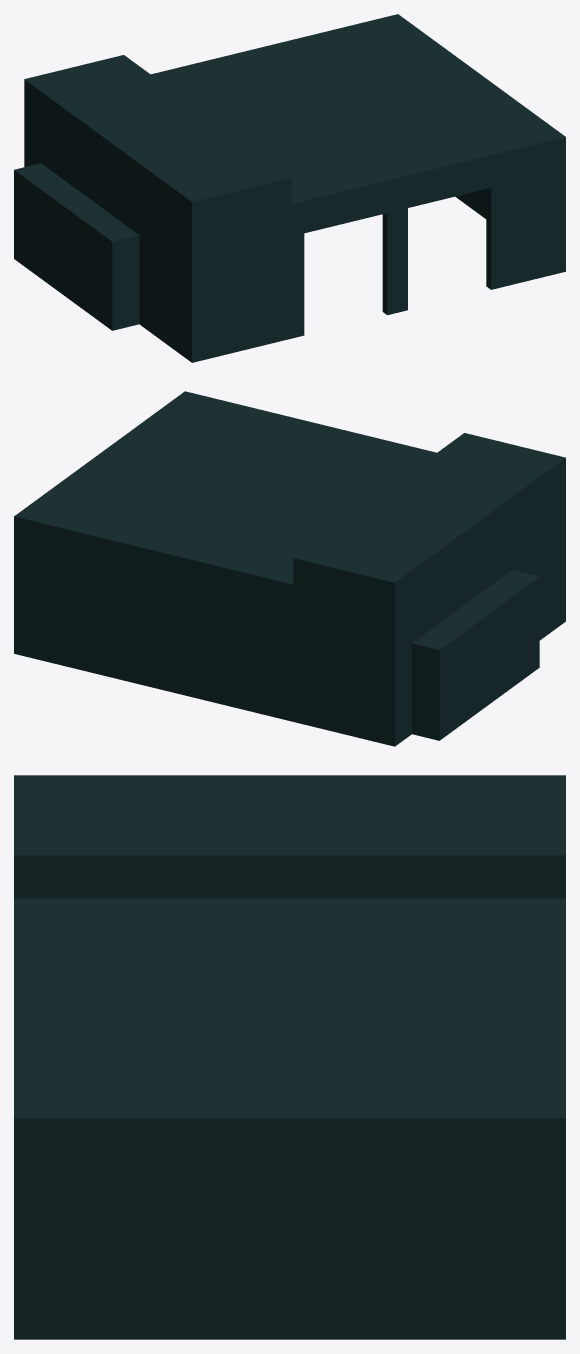
The model's file is oc_mendez_garage_01_collision.glb.
3 views of the same model, one above another, from view 1: azimuth 30°, elevation 25°; view 2: azimuth 150°, elevation 25°; view 3: azimuth 270°, elevation 25° (orthographic). The views are drawn at different scales.
Visible parts, largest first — view 1: COL_Office, COL_RoofLintel, COL_Stair, COL_PierR, COL_PierMid, COL_PierL, COL_SideR, COL_Rear; view 2: COL_Office, COL_RoofLintel, COL_Rear, COL_Stair, COL_SideR; view 3: COL_RoofLintel, COL_SideR, COL_Office, COL_Rear, COL_PierR.
Part boxes in pixels (x1=…): COL_Office: x1=24, y1=55, x2=291, y2=362; COL_RoofLintel: x1=153, y1=15, x2=565, y2=236; COL_Stair: x1=14, y1=163, x2=139, y2=330; COL_PierR: x1=486, y1=133, x2=565, y2=289; COL_PierMid: x1=382, y1=172, x2=407, y2=315; COL_PierL: x1=291, y1=197, x2=304, y2=338; COL_SideR: x1=392, y1=14, x2=565, y2=270; COL_Rear: x1=151, y1=14, x2=400, y2=76; COL_Office: x1=293, y1=433, x2=565, y2=746; COL_RoofLintel: x1=15, y1=391, x2=436, y2=615; COL_Rear: x1=14, y1=515, x2=293, y2=721; COL_Stair: x1=412, y1=570, x2=539, y2=740; COL_SideR: x1=14, y1=392, x2=184, y2=652; COL_RoofLintel: x1=14, y1=898, x2=565, y2=1171; COL_SideR: x1=14, y1=1113, x2=565, y2=1339; COL_Office: x1=14, y1=775, x2=565, y2=898; COL_Rear: x1=554, y1=898, x2=565, y2=1339; COL_PierR: x1=14, y1=1058, x2=29, y2=1339.
Size of the model in its own units: 19.3 by 7.4 by 14.
